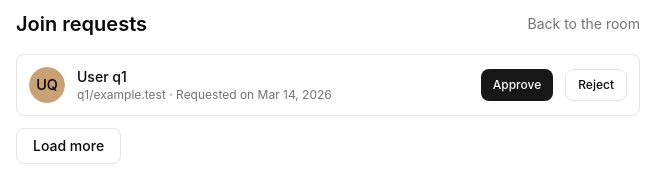
Test: JoinRequestList › loads the next page on demand
What coordinates should you click on to do the following:
click the button "Load more"
I would click on:
 (69, 146)
Its box is [16,128,121,164].
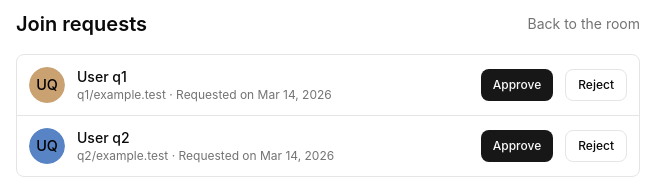
Expected: the text "User q1" is shown, [77,68,127,85]
Now the text "User q2" is shown, box [77,129,130,146]
Now the button "Load more" is gone
